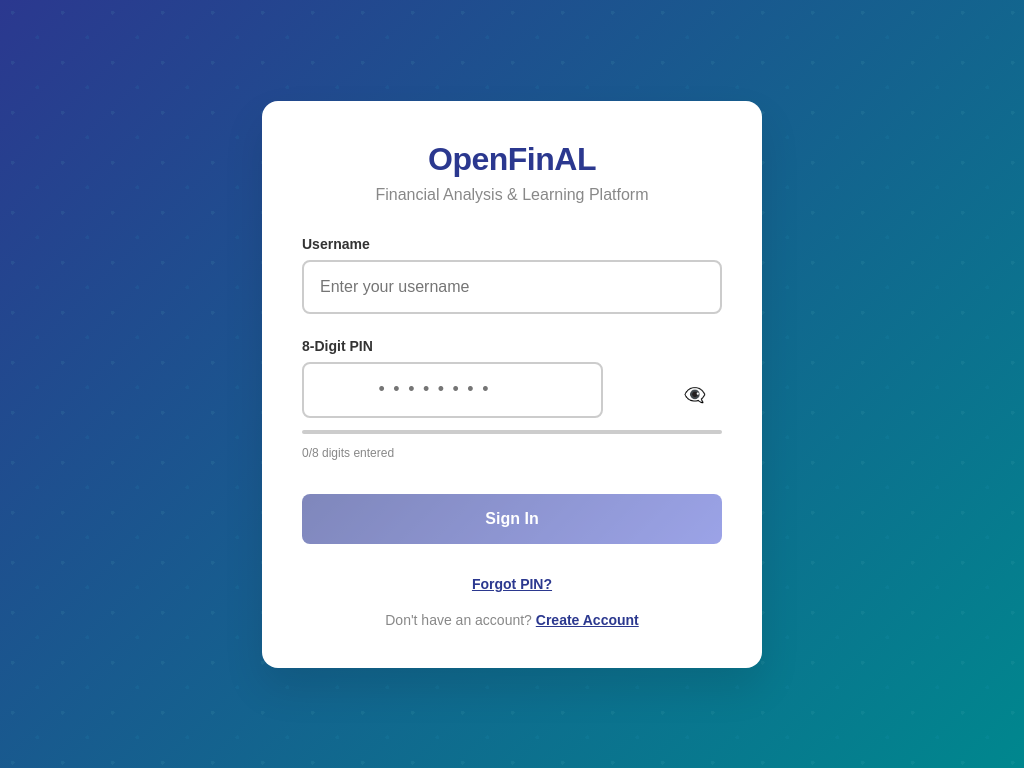
it: PinLogin › should handle login exception
Type "testuser" into the field labelled "Username".
click(512, 286); type("testuser")  # box [302,260,722,314]
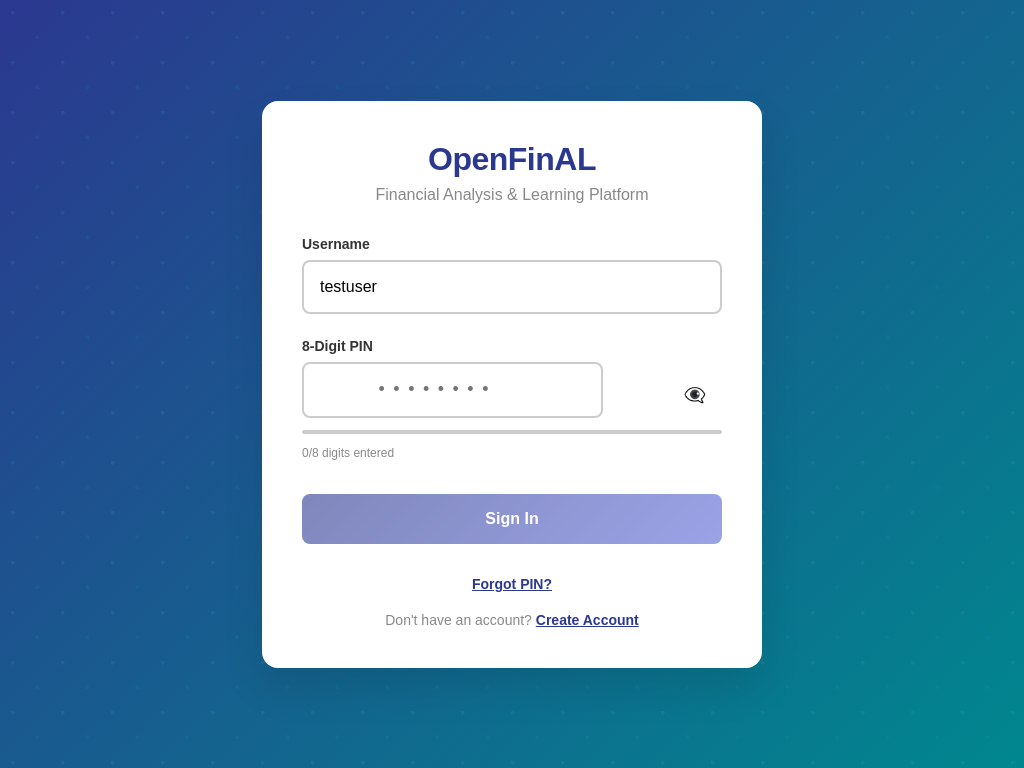
Type "12345678" into the password field labelled "8-Digit PIN".
click(452, 390); type("12345678")  # box [302,362,603,418]
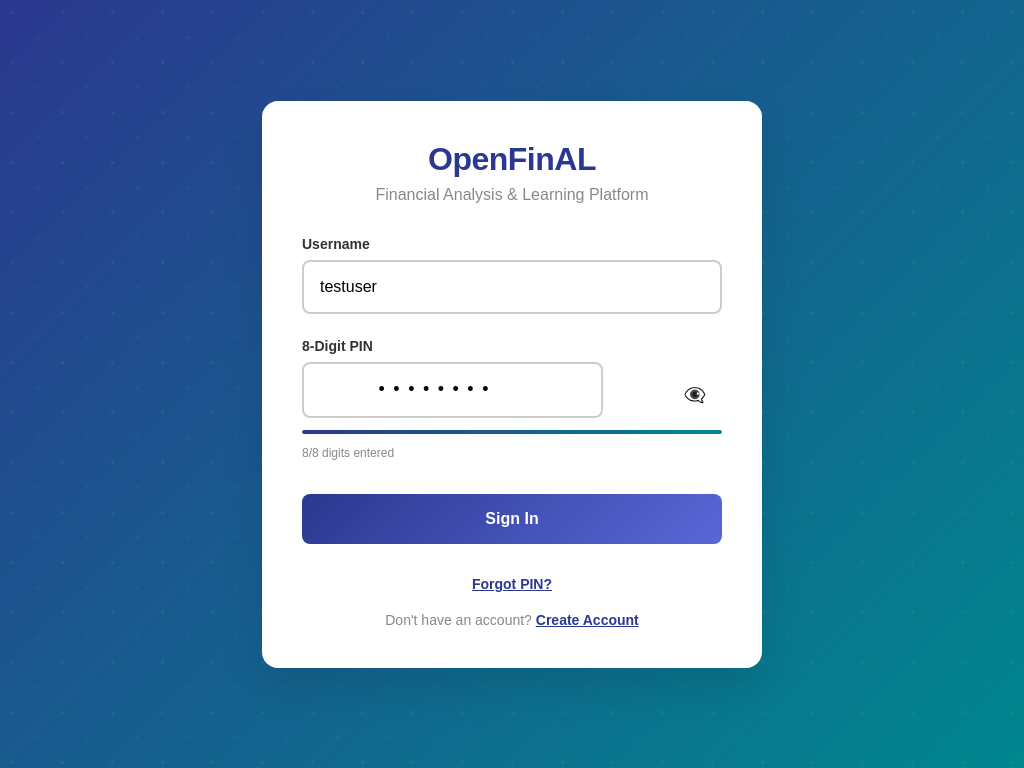
Click the button "Sign In".
click(512, 518)  # box [302,494,722,544]
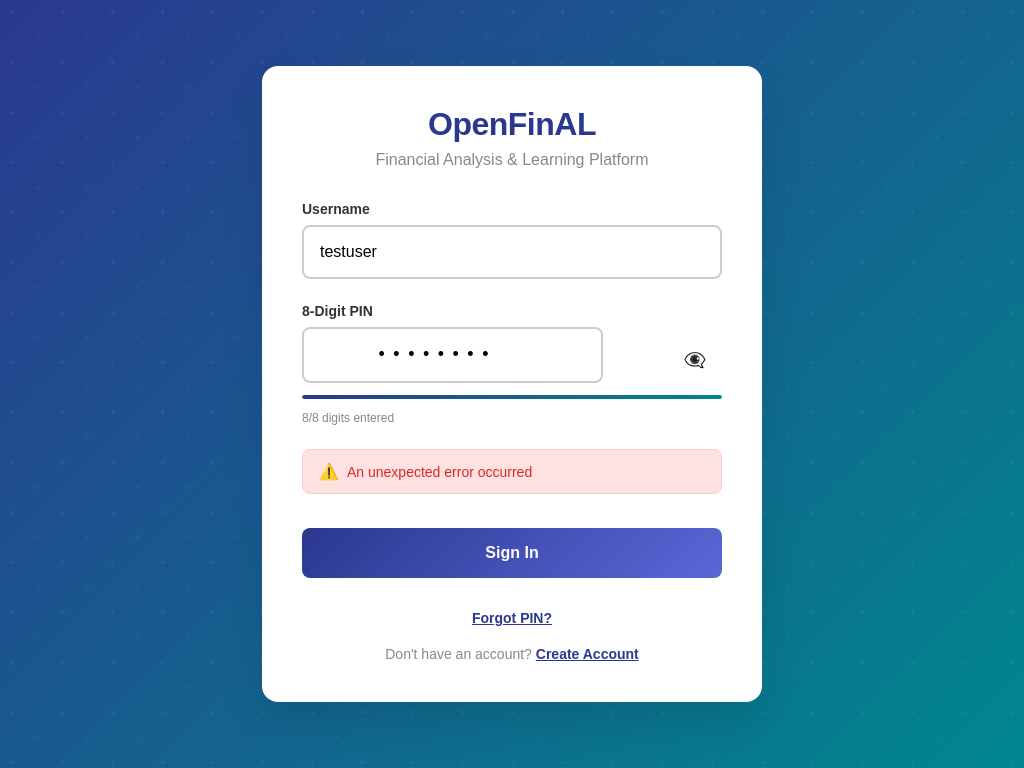
Now the text "An unexpected error occurred" is shown, box [347,464,532,480]
